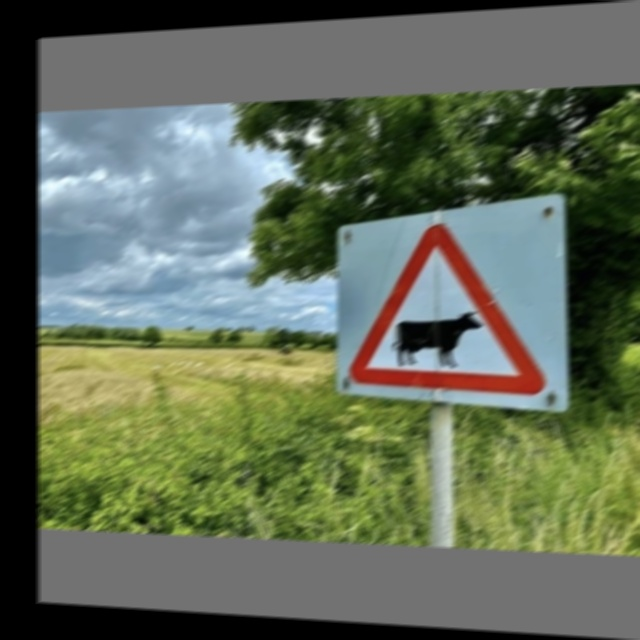Cattle: (343, 219, 550, 406)
